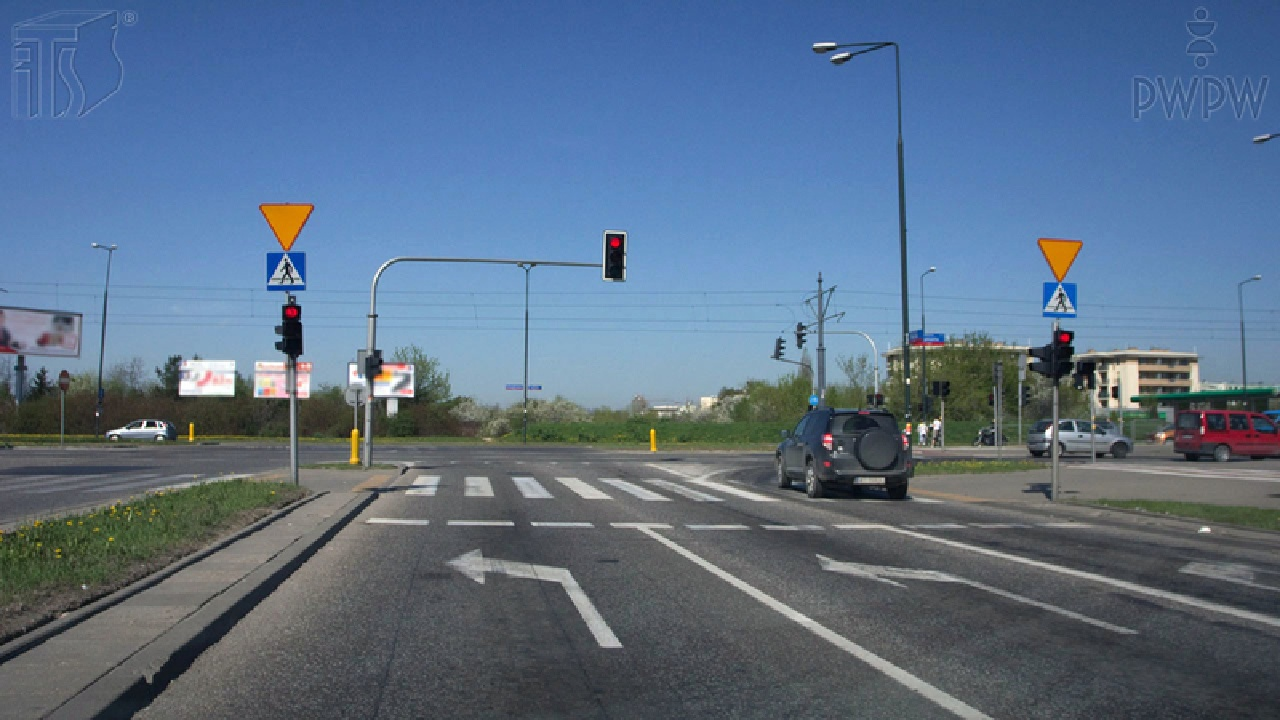A7: (259, 203, 315, 251), (1038, 238, 1083, 281)
D6: (267, 252, 306, 291), (1043, 282, 1077, 318)
Red: (282, 305, 302, 354), (1056, 331, 1071, 374), (608, 235, 622, 278)
